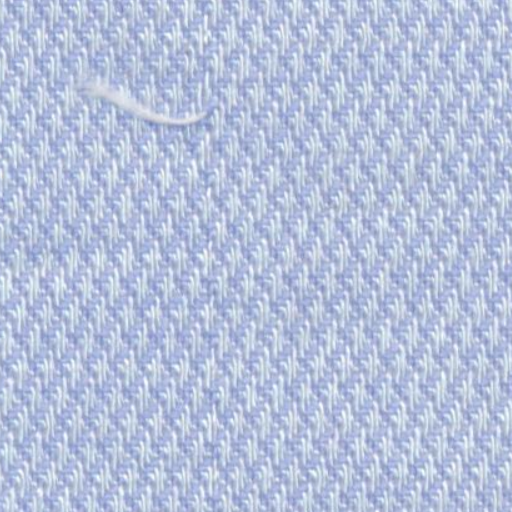DuanSha: (80, 66, 217, 140)
